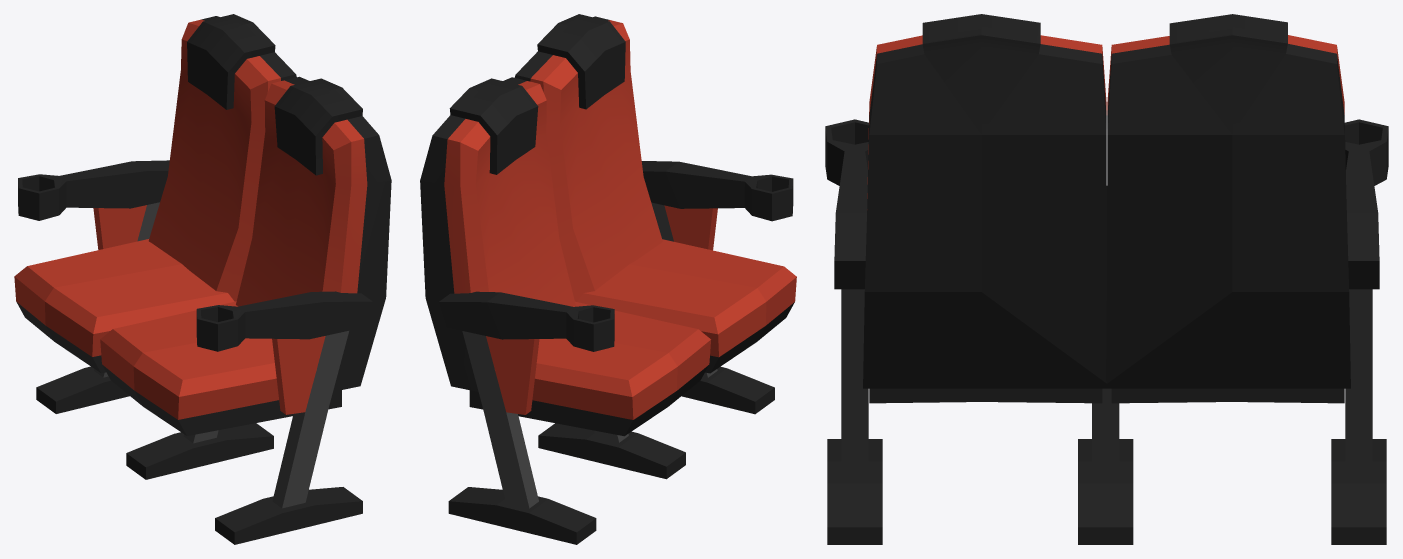
The model's file is Couple_Chair.fbx.
3 views of the same model, side by side, from view 1: azimuth 30°, elevation 25°; view 2: azimuth 150°, elevation 25°; view 3: azimuth 270°, elevation 25° (orthographic). The views are drawn at different scales.
Parts seen in each view (by area): view 1: polySurface1414; view 2: polySurface1414; view 3: polySurface1414.
Part boxes in pixels (x1,y1,x2,y2): polySurface1414: (14, 14, 391, 544); polySurface1414: (420, 14, 796, 544); polySurface1414: (825, 14, 1388, 544).
Bounding box in the file's own units: 155 × 257 × 246.
Materials: 1 (1 with a texture image).
